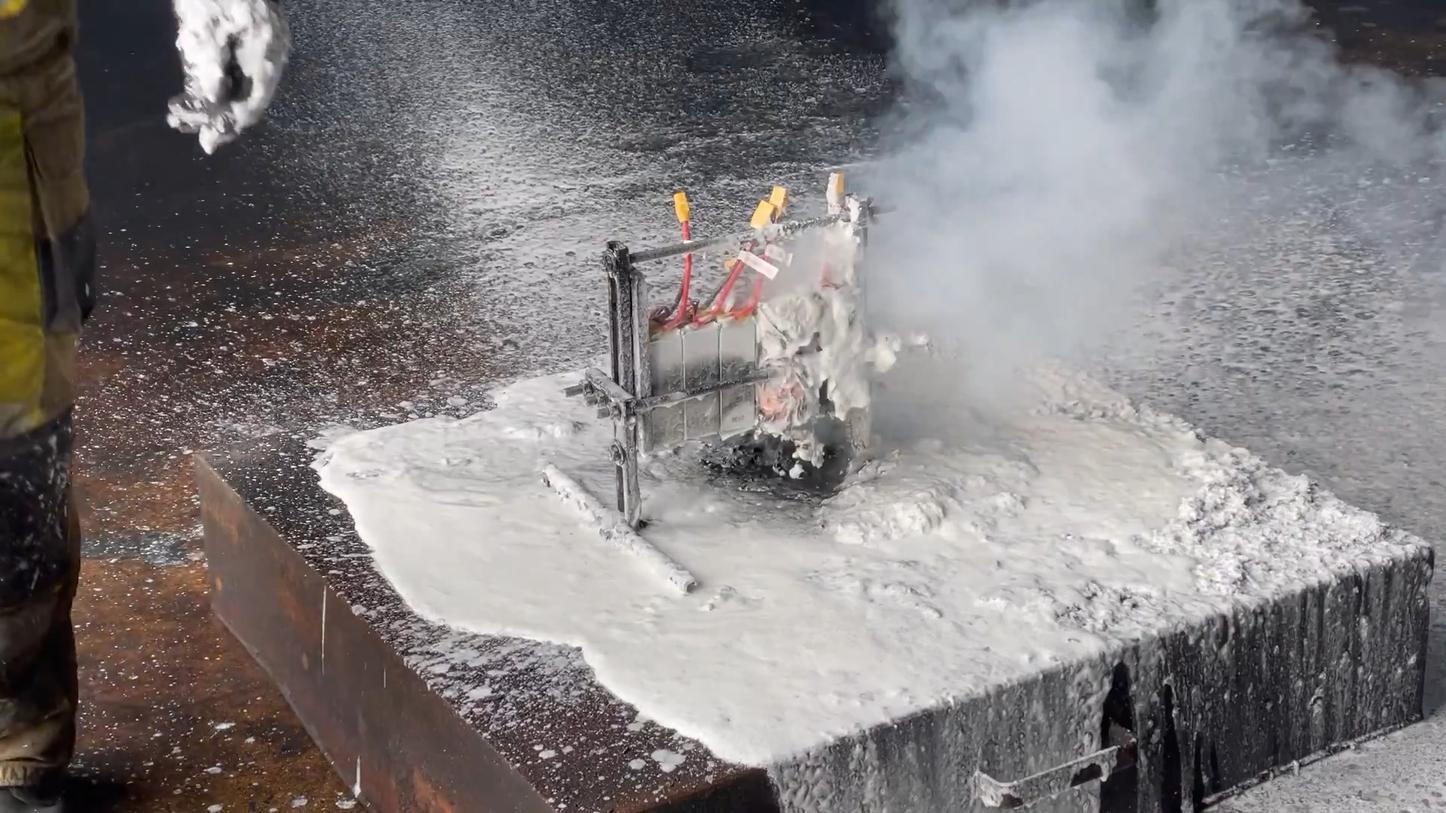smoke: (853, 0, 1415, 437)
